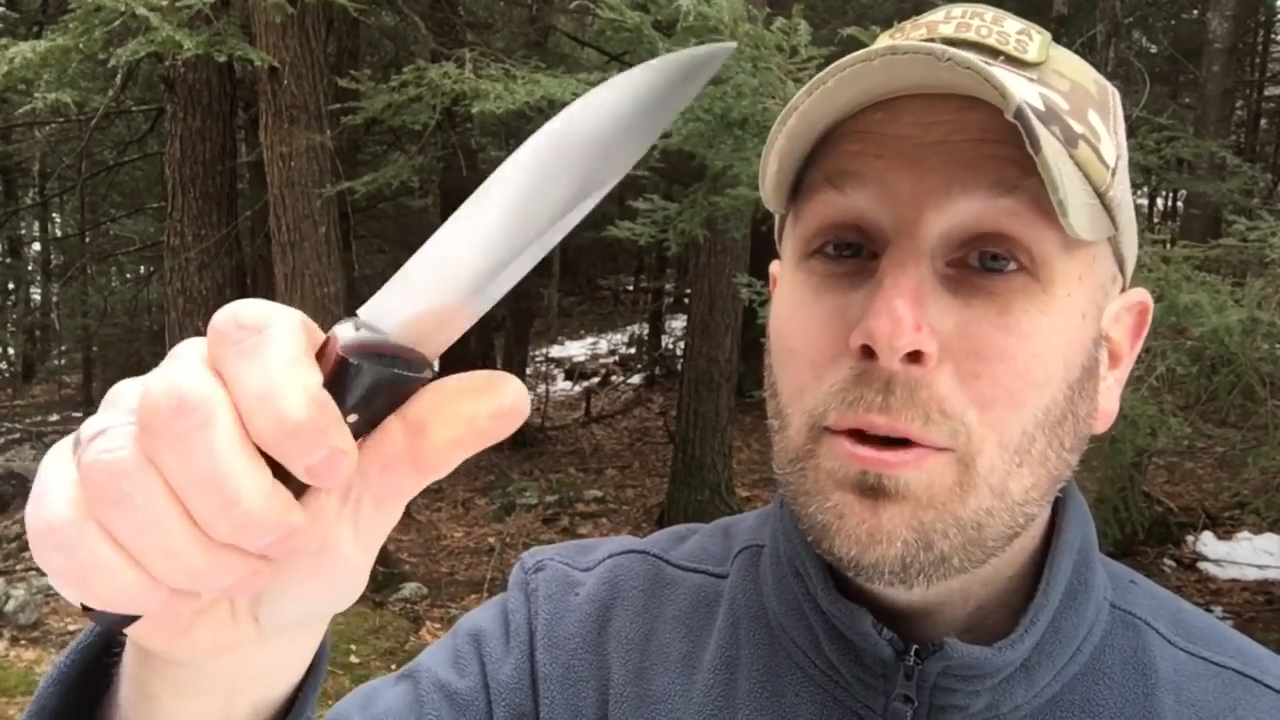knife: (199, 33, 747, 533)
